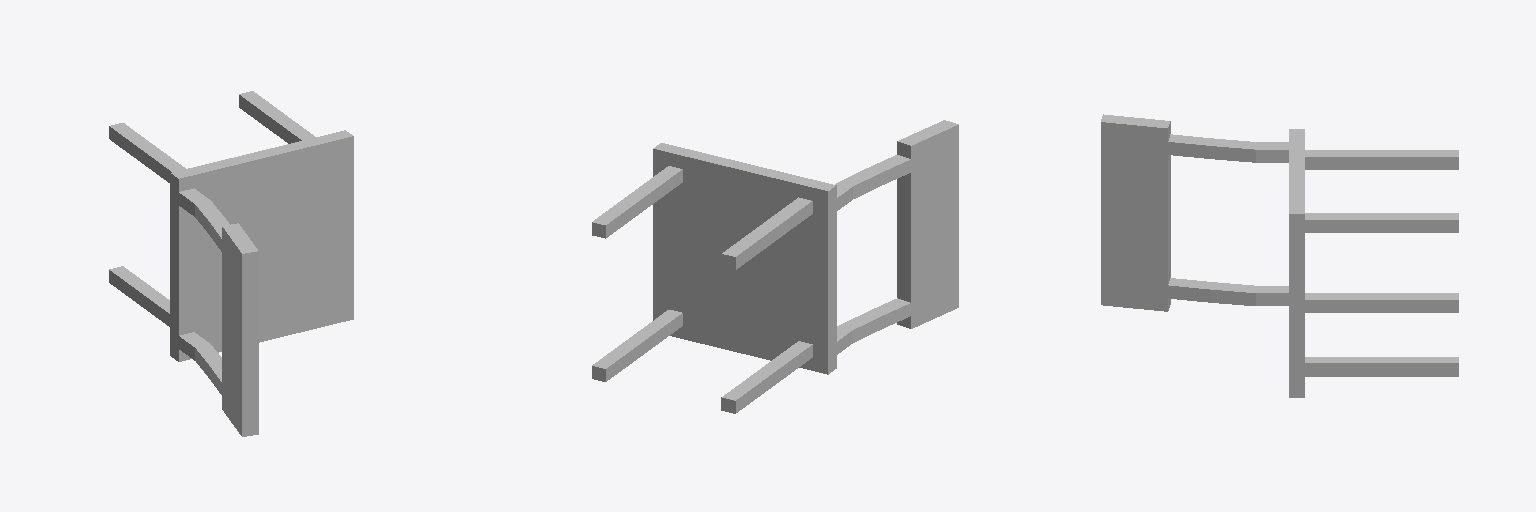
The model's file is chair.obj.
The picture shows the model from 3 angles: view 1: azimuth 30°, elevation 25°; view 2: azimuth 150°, elevation 25°; view 3: azimuth 270°, elevation 25°; orthographic projection.
Visible parts, largest first — view 1: chair; view 2: chair; view 3: chair.
Part boxes in pixels (x1,y1,x2,y2): chair: (109,91,353,436); chair: (592,120,958,413); chair: (1101,114,1458,397).
Size of the model in its own units: 4.67 by 4 by 7.1.